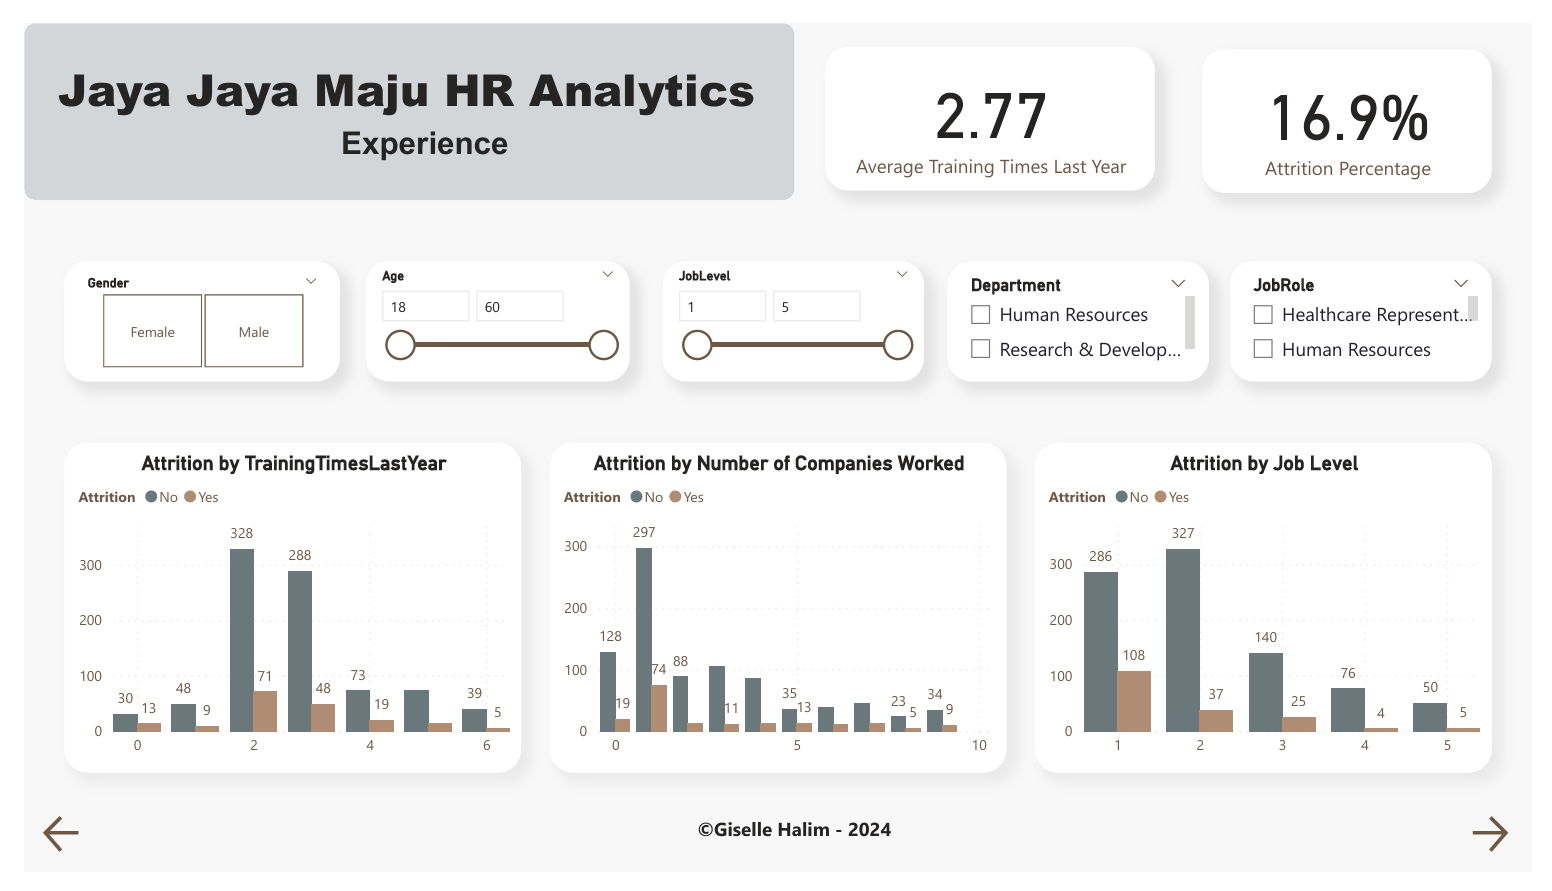

This screenshot's page, from the dashboard's own definition file:
{"tool":"powerbi","page":{"name":"HR Analytics [Experience]","canvas":[1280,720],"ordinal":1},"visuals":[{"type":"clusteredColumnChart","title":"Attrition by Job Level","fields":{"Category":["employee_data_clean.JobLevel"],"Series":["employee_data_clean.Attrition"],"Y":["CountNonNull(employee_data_clean.EmployeeId)"]},"box":[858,356,388,280],"z":0},{"type":"clusteredColumnChart","title":"Attrition by Number of Companies Worked","fields":{"Category":["employee_data_clean.NumCompaniesWorked"],"Series":["employee_data_clean.Attrition"],"Y":["CountNonNull(employee_data_clean.EmployeeId)"]},"box":[446,356,388,280],"z":1000},{"type":"clusteredColumnChart","title":"Attrition by TrainingTimesLastYear","fields":{"Series":["employee_data_clean.Attrition"],"Category":["employee_data_clean.TrainingTimesLastYear"],"Y":["CountNonNull(employee_data_clean.EmployeeId)"]},"box":[34,356,388,280],"z":2000},{"type":"actionButton","box":[1224,668,44,40],"z":3000},{"type":"actionButton","box":[12,668,42,40],"z":4000},{"type":"shape","box":[0,0,654,150],"z":5000},{"type":"textbox","box":[264,82,178,58],"z":6000},{"type":"textbox","box":[24,24,660,68],"z":7000},{"type":"card","fields":{"Values":["Avg(employee_data_clean.TrainingTimesLastYear)"]},"box":[680,20,280,122],"z":8000},{"type":"card","fields":{"Values":["employee_data_clean.% Attrition"]},"box":[1000,22,246,122],"z":9000},{"type":"slicer","fields":{"Values":["employee_data_clean.Gender"]},"box":[34,202,234,102],"z":10000},{"type":"slicer","fields":{"Values":["employee_data_clean.JobLevel"]},"box":[542,202,222,102],"z":11000},{"type":"slicer","fields":{"Values":["employee_data_clean.Age"]},"box":[290,202,224,102],"z":12000},{"type":"slicer","fields":{"Values":["employee_data_clean.Department"]},"box":[784,202,222,102],"z":13000},{"type":"slicer","fields":{"Values":["employee_data_clean.JobRole"]},"box":[1024,202,222,102],"z":14000},{"type":"textbox","box":[554,668,200,40],"z":15000}]}

Visuals, with their boxes in screenshot pixels (x1, y1, x2, y2), scaled from the page's 1280x720 canvas onto the 1552x891 screenshot:
"Attrition by Job Level" clusteredColumnChart: box(1040, 441, 1511, 787)
"Attrition by Number of Companies Worked" clusteredColumnChart: box(541, 441, 1011, 787)
"Attrition by TrainingTimesLastYear" clusteredColumnChart: box(41, 441, 512, 787)
actionButton: box(1484, 827, 1537, 876)
actionButton: box(15, 827, 65, 876)
shape: box(0, 0, 793, 186)
textbox: box(320, 101, 536, 173)
textbox: box(29, 30, 829, 114)
card - Avg(employee_data_clean.TrainingTimesLastYear): box(824, 25, 1164, 176)
card - employee_data_clean.% Attrition: box(1212, 27, 1511, 178)
slicer - employee_data_clean.Gender: box(41, 250, 325, 376)
slicer - employee_data_clean.JobLevel: box(657, 250, 926, 376)
slicer - employee_data_clean.Age: box(352, 250, 623, 376)
slicer - employee_data_clean.Department: box(951, 250, 1220, 376)
slicer - employee_data_clean.JobRole: box(1242, 250, 1511, 376)
textbox: box(672, 827, 914, 876)
